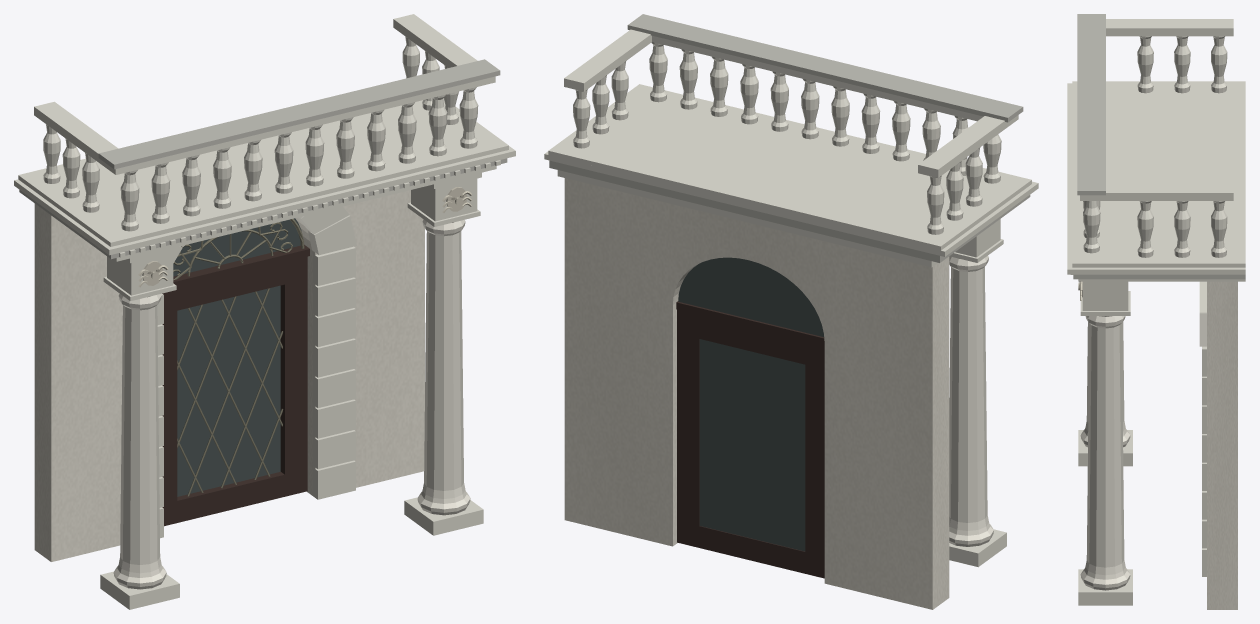
File: changning-white-house-club-porch-balustrade-lod.glb
The picture shows the model from 3 angles, left to right: view 1: azimuth 30°, elevation 25°; view 2: azimuth 150°, elevation 25°; view 3: azimuth 270°, elevation 25°; orthographic projection. The views are drawn at different scales.
Parts seen in each view (by area): view 1: 白宫俱乐部廊顶瓶栏与浮雕柱头; view 2: 白宫俱乐部廊顶瓶栏与浮雕柱头; view 3: 白宫俱乐部廊顶瓶栏与浮雕柱头.
Boxes of the visible parts, x1=… form: 白宫俱乐部廊顶瓶栏与浮雕柱头: x1=14, y1=14, x2=515, y2=609; 白宫俱乐部廊顶瓶栏与浮雕柱头: x1=544, y1=14, x2=1038, y2=609; 白宫俱乐部廊顶瓶栏与浮雕柱头: x1=1067, y1=14, x2=1245, y2=609.
Size of the model in its own units: 3.96 by 4.18 by 1.61.
9 materials, 1 textured.
